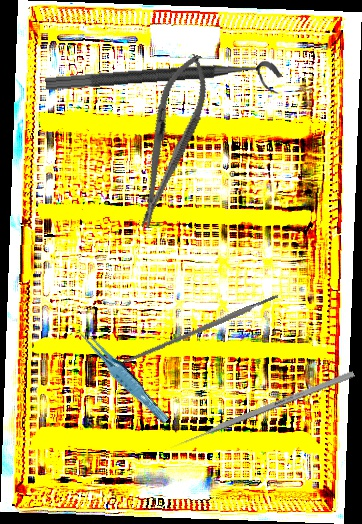Fixation Ring: (45, 59, 283, 111)
Needle Holder: (121, 48, 219, 234)
Pusher: (168, 370, 356, 451)
Scalpel Handle: (122, 293, 280, 366)
Tissue Forceps: (76, 320, 171, 431)
